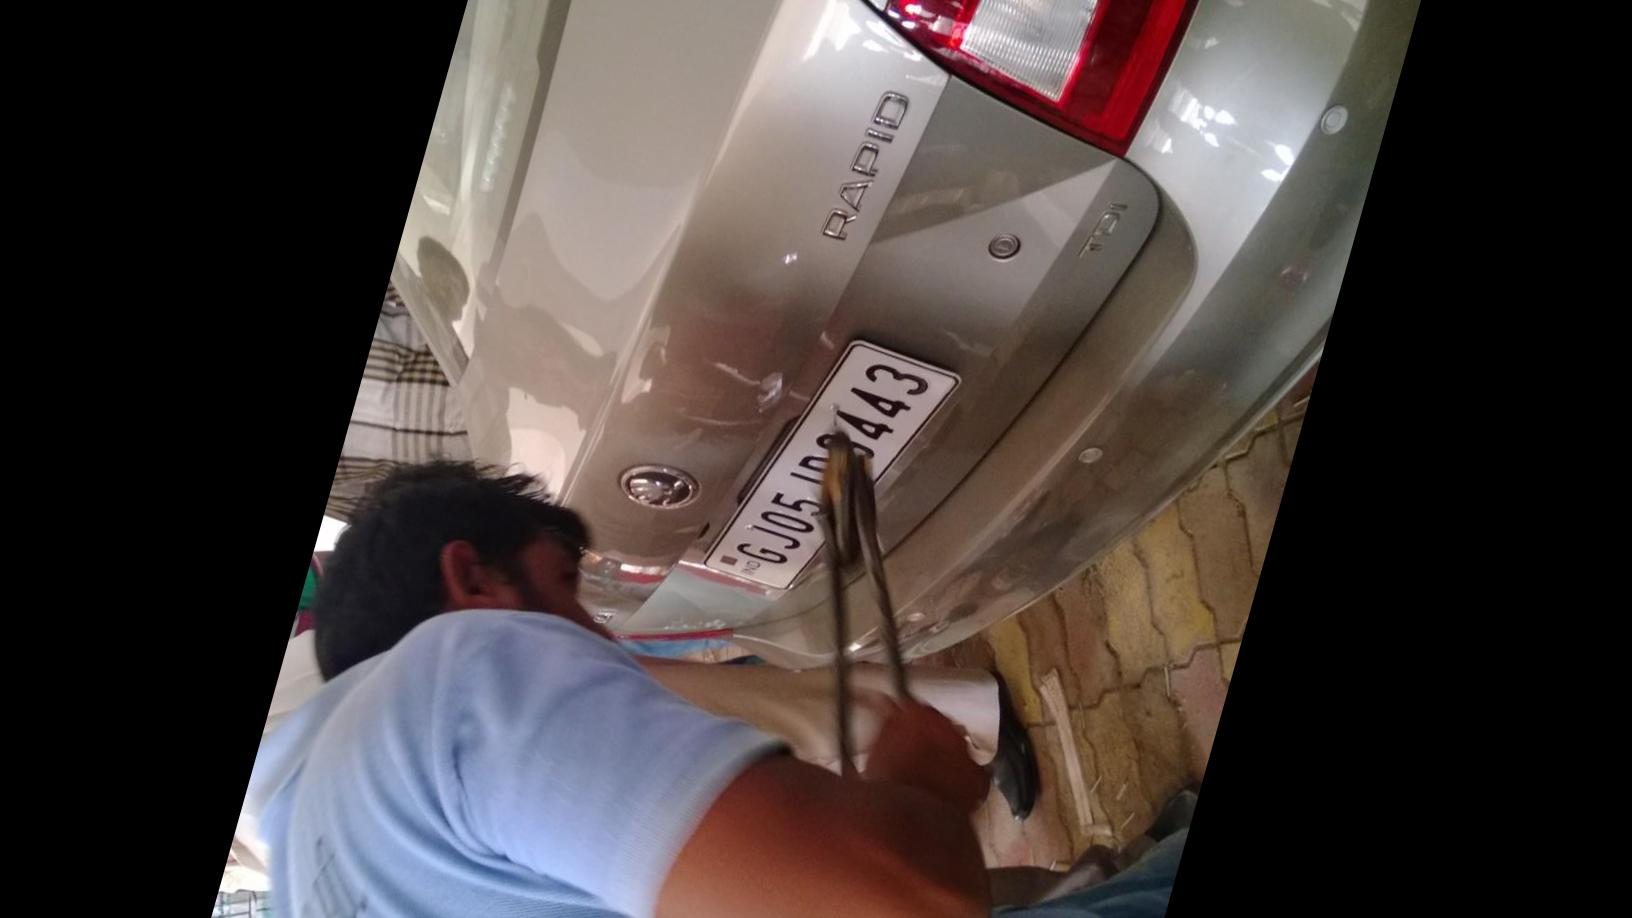plate: (686, 297, 962, 626)
